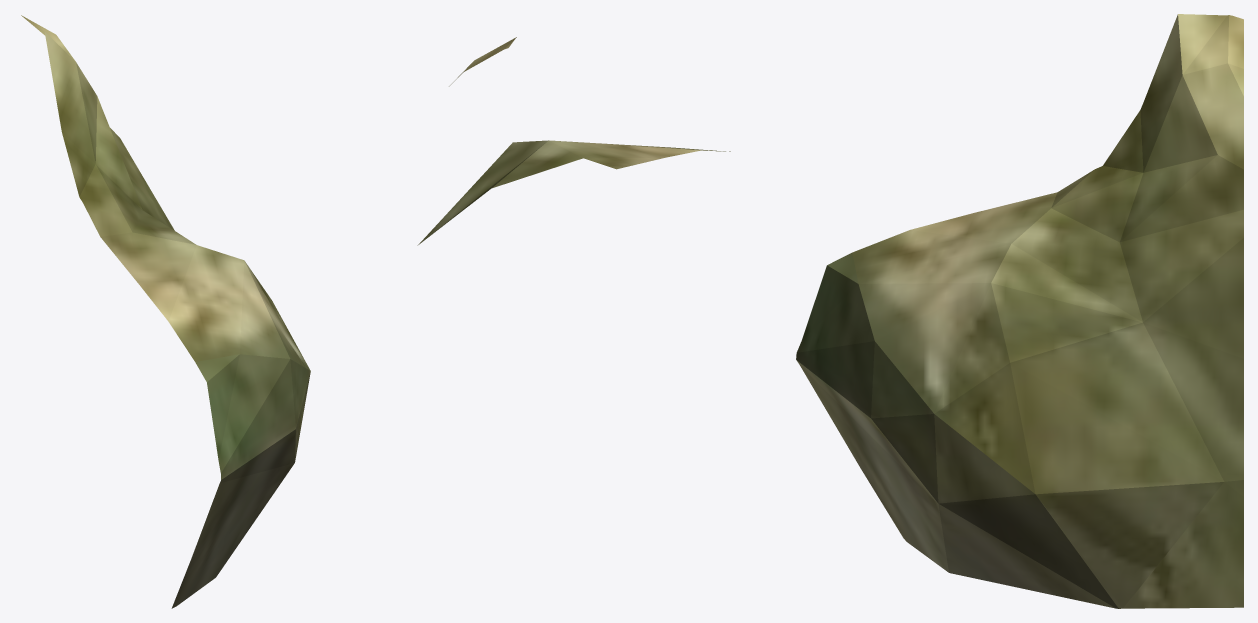
3 views of the same model, side by side, from view 1: azimuth 30°, elevation 25°; view 2: azimuth 150°, elevation 25°; view 3: azimuth 270°, elevation 25° (orthographic). The views are drawn at different scales.
Size of the model in its own units: 0.3444 by 0.9453 by 0.7318.
1 material, 1 textured.
